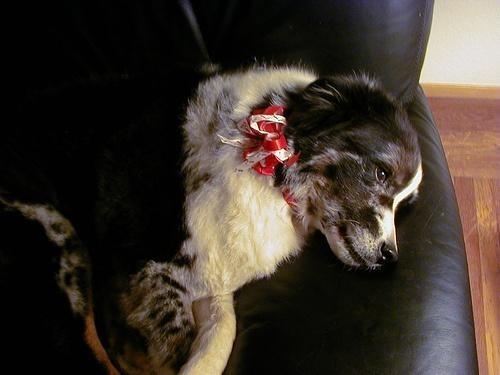dog: (1, 65, 424, 375)
